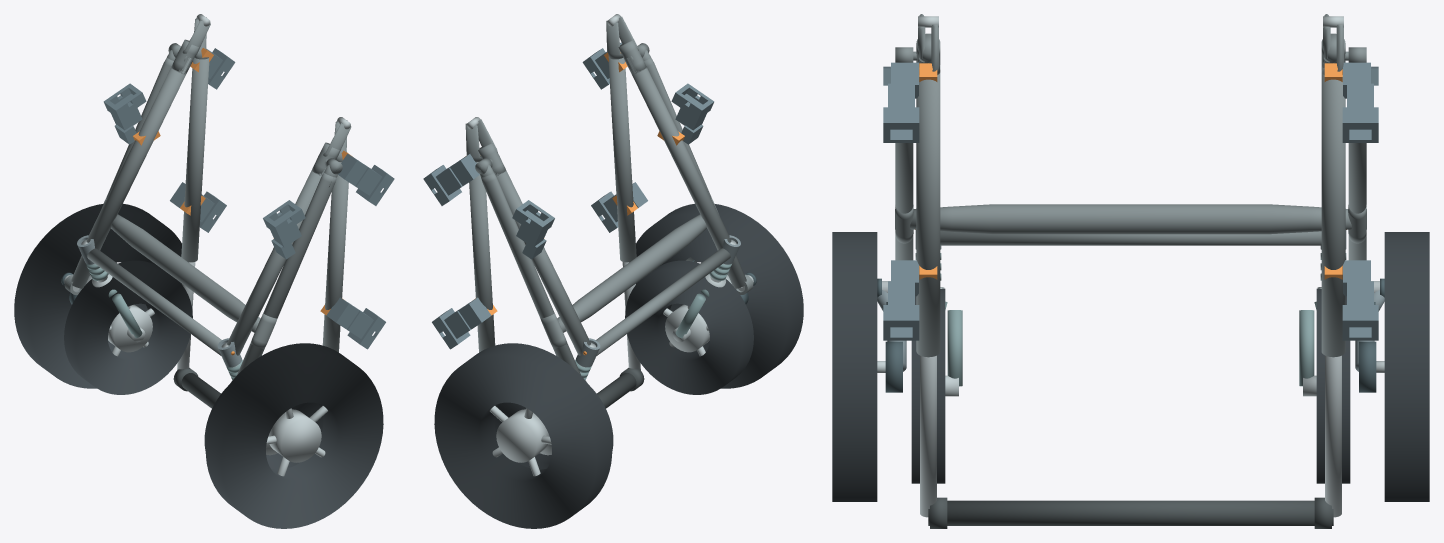
Rendered from w650_state3_wheel_L.glb.
3 views of the same model, side by side, from view 1: azimuth 30°, elevation 25°; view 2: azimuth 150°, elevation 25°; view 3: azimuth 270°, elevation 25° (orthographic). The views are drawn at different scales.
Parts seen in each view (by area): view 1: RL_tire.011, RR_tire.011, FR_tire.011, main_upper_1.012, V46_rearbar.011, main_lower_1.012, main_upper_-1.012, V46_rear_leg_-1.011, main_lower_-1.012, front_fixed_round_tube.011, RL_sealed_hub.011, Universal_Cabin_Receiver_H_-1 (+12 smaller); view 2: RR_tire.011, RL_tire.011, FL_tire.011, main_upper_-1.012, V46_rearbar.011, main_lower_-1.012, main_upper_1.012, V46_rear_leg_1.011, main_lower_1.012, front_fixed_round_tube.011, RR_sealed_hub.011, Universal_Cabin_Receiver_H_1 (+13 smaller); view 3: RL_tire.011, RR_tire.011, V46_rearbar.011, round_handle.013, main_upper_1.012, main_upper_-1.012, front_fixed_round_tube.011, FL_tire.011, FR_tire.011, handle_slider_1.013, handle_slider_-1.013, Universal_Cabin_Receiver_M_-1 (+9 smaller).
Part boxes in pixels (x1,y1,x2,y2): RL_tire.011: (205, 343, 383, 528); RR_tire.011: (14, 203, 181, 388); FR_tire.011: (64, 260, 192, 394); main_upper_1.012: (181, 58, 209, 262); V46_rearbar.011: (111, 214, 260, 332); main_lower_1.012: (86, 57, 191, 250); main_upper_-1.012: (322, 162, 348, 352); V46_rear_leg_-1.011: (237, 172, 336, 374); main_lower_-1.012: (227, 168, 325, 355); front_fixed_round_tube.011: (87, 248, 221, 355); RL_sealed_hub.011: (268, 409, 321, 462); Universal_Cabin_Receiver_H_-1: (326, 297, 385, 349); RR_tire.011: (434, 343, 612, 528); RL_tire.011: (636, 203, 803, 388); FL_tire.011: (625, 260, 753, 394); main_upper_-1.012: (608, 57, 636, 262); V46_rearbar.011: (557, 214, 706, 332); main_lower_-1.012: (626, 57, 731, 250); main_upper_1.012: (469, 162, 495, 352); V46_rear_leg_1.011: (481, 172, 580, 374); main_lower_1.012: (492, 168, 590, 355); front_fixed_round_tube.011: (596, 248, 730, 355); RR_sealed_hub.011: (496, 409, 549, 462); Universal_Cabin_Receiver_H_1: (432, 297, 491, 349); RL_tire.011: (832, 232, 877, 501); RR_tire.011: (1384, 232, 1429, 501); V46_rearbar.011: (910, 204, 1351, 234); round_handle.013: (928, 500, 1333, 525); main_upper_1.012: (1321, 73, 1345, 357); main_upper_-1.012: (916, 73, 940, 357); front_fixed_round_tube.011: (940, 231, 1321, 245); FL_tire.011: (911, 288, 945, 483); FR_tire.011: (1316, 288, 1350, 483); handle_slider_1.013: (1325, 355, 1341, 517); handle_slider_-1.013: (920, 355, 936, 517); Universal_Cabin_Receiver_M_-1: (883, 62, 919, 142).
Bounding box in the file's own units: 0.4241 × 0.7726 × 0.796.
